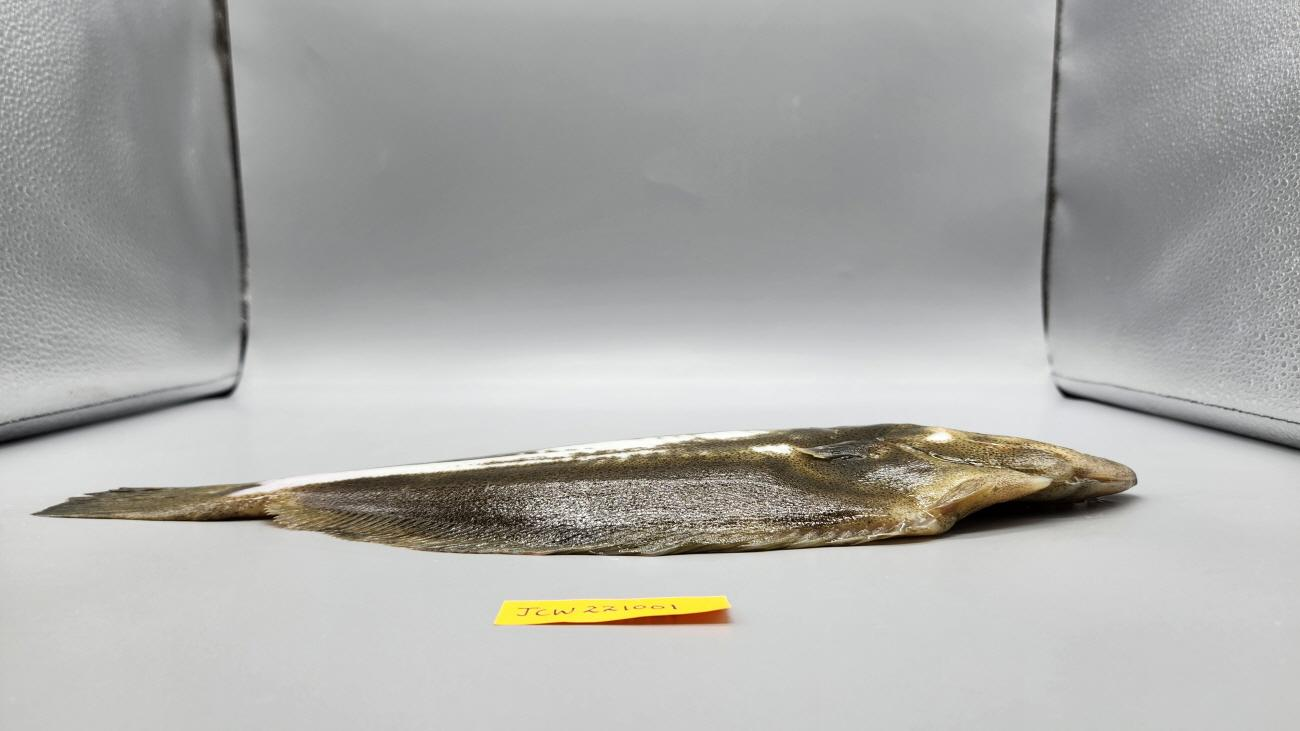POOUN: (31, 423, 1140, 558)
